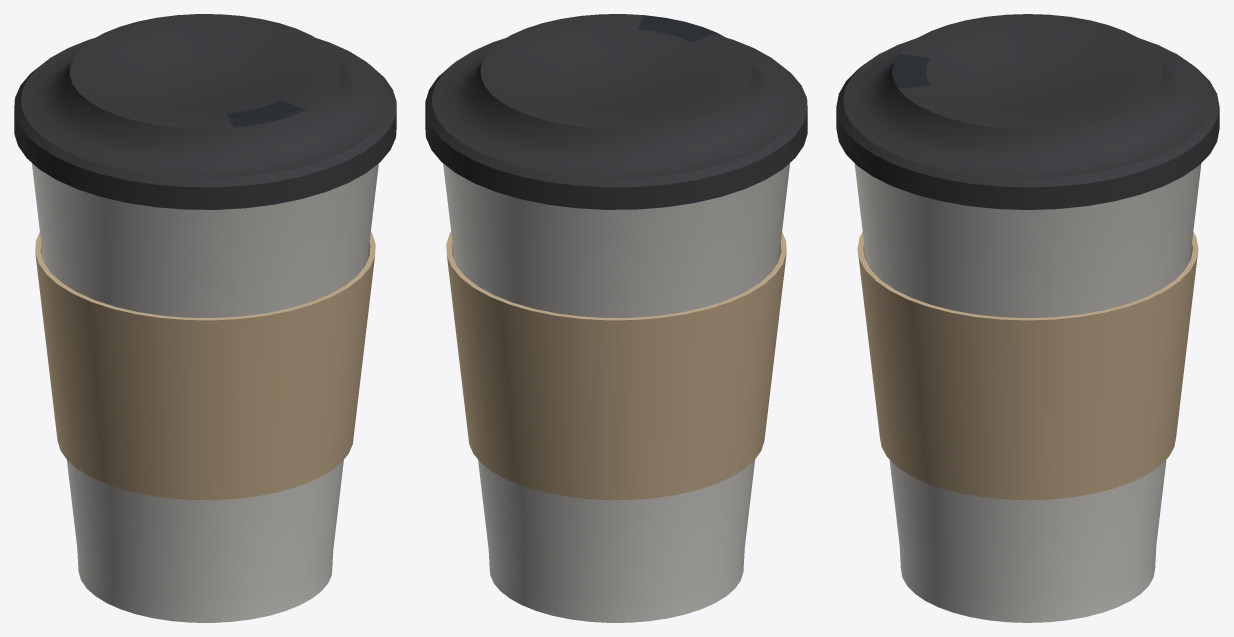
File: kitchen_cup_paper_takeaway.fbx
3 renders of one model, left to right at view 1: azimuth 30°, elevation 25°; view 2: azimuth 150°, elevation 25°; view 3: azimuth 270°, elevation 25°, orthographic.
Visible parts, largest first — view 1: kitchen_cup_paper_takeaway; view 2: kitchen_cup_paper_takeaway; view 3: kitchen_cup_paper_takeaway.
Part boxes in pixels (box(x1,y1,x2,y2)): kitchen_cup_paper_takeaway: box(14, 14, 396, 622); kitchen_cup_paper_takeaway: box(425, 14, 807, 622); kitchen_cup_paper_takeaway: box(836, 14, 1219, 622).
Bounding box in the file's own units: 0.0844 × 0.121 × 0.0844.
